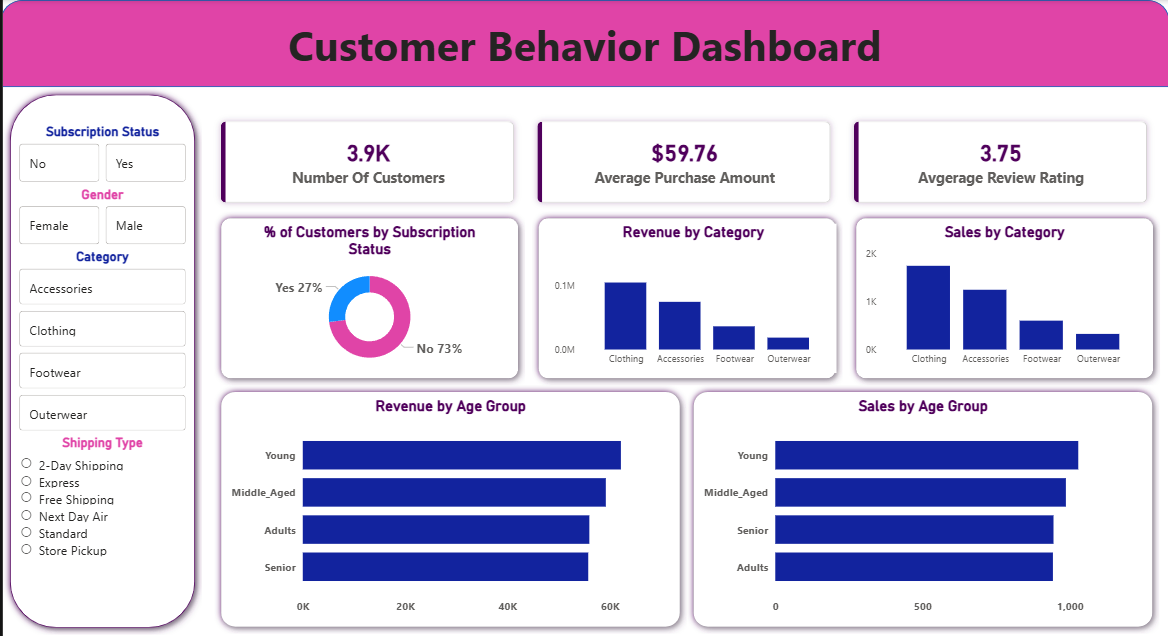

What the dashboard file says about the page in this screenshot:
{"tool":"powerbi","page":{"name":"Page 1","canvas":[1500,820],"ordinal":0},"visuals":[{"type":"cardVisual","fields":{"Data":["customer_shopping_behaviour_cleaned.Number Of Customers","customer_shopping_behaviour_cleaned.Average Purchase Amount","customer_shopping_behaviour_cleaned.Avgerage Review Rating"]},"box":[252,128,1248,160],"z":0},{"type":"shape","box":[272,496,608,320],"z":3000},{"type":"clusteredBarChart","title":"Revenue by Age Group","fields":{"Y":["Sum(customer_shopping_behaviour_cleaned.purchase_amount_usd)"],"Category":["customer_shopping_behaviour_cleaned.age_group"]},"box":[288,512,576,288],"z":3250},{"type":"shape","box":[-4,0,1504,112],"z":3500},{"type":"textbox","box":[-4,16,1504,96],"z":4000},{"type":"shape","box":[272,272,400,224],"z":5000},{"type":"donutChart","title":"% of Customers by Subscription Status","fields":{"Category":["customer_shopping_behaviour_cleaned.subscription_status"],"Y":["CountNonNull(customer_shopping_behaviour_cleaned.customer_id)"]},"box":[288,288,368,192],"z":6000},{"type":"shape","box":[680,272,400,224],"z":7000},{"type":"shape","box":[1088,272,400,224],"z":8000},{"type":"clusteredColumnChart","title":"Revenue by Category","fields":{"Category":["customer_shopping_behaviour_cleaned.category"],"Y":["Sum(customer_shopping_behaviour_cleaned.purchase_amount_usd)"]},"box":[704,288,368,192],"z":9000},{"type":"clusteredColumnChart","title":"Sales by Category","fields":{"Category":["customer_shopping_behaviour_cleaned.category"],"Y":["CountNonNull(customer_shopping_behaviour_cleaned.customer_id)"]},"box":[1104,288,368,192],"z":10000},{"type":"shape","box":[0,112,256,704],"z":11000},{"type":"advancedSlicerVisual","fields":{"Values":["customer_shopping_behaviour_cleaned.subscription_status"]},"box":[16,160,224,80],"z":12000},{"type":"advancedSlicerVisual","fields":{"Values":["customer_shopping_behaviour_cleaned.gender"]},"box":[16,240,224,80],"z":13000},{"type":"advancedSlicerVisual","fields":{"Values":["customer_shopping_behaviour_cleaned.category"]},"box":[16,320,224,240],"z":14000},{"type":"listSlicer","fields":{"Values":["customer_shopping_behaviour_cleaned.shipping_type"]},"box":[16,560,224,208],"z":15000},{"type":"shape","box":[880,496,608,320],"z":16000},{"type":"clusteredBarChart","title":"Sales by Age Group","fields":{"Y":["CountNonNull(customer_shopping_behaviour_cleaned.customer_id)"],"Category":["customer_shopping_behaviour_cleaned.age_group"]},"box":[896,512,576,288],"z":17000}]}

Visuals, with their boxes in screenshot pixels (x1, y1, x2, y2), scaled from the page's 1500x820 canvas onto the 1168x636 screenshot:
cardVisual - customer_shopping_behaviour_cleaned.Number Of Customers x customer_shopping_behaviour_cleaned.Average Purchase Amount: bbox=(196, 99, 1167, 223)
shape: bbox=(212, 385, 685, 633)
"Revenue by Age Group" clusteredBarChart: bbox=(224, 397, 673, 620)
shape: bbox=(0, 0, 1167, 87)
textbox: bbox=(0, 12, 1167, 87)
shape: bbox=(212, 211, 523, 385)
"% of Customers by Subscription Status" donutChart: bbox=(224, 223, 511, 372)
shape: bbox=(529, 211, 841, 385)
shape: bbox=(847, 211, 1159, 385)
"Revenue by Category" clusteredColumnChart: bbox=(548, 223, 835, 372)
"Sales by Category" clusteredColumnChart: bbox=(860, 223, 1146, 372)
shape: bbox=(0, 87, 199, 633)
advancedSlicerVisual - customer_shopping_behaviour_cleaned.subscription_status: bbox=(12, 124, 187, 186)
advancedSlicerVisual - customer_shopping_behaviour_cleaned.gender: bbox=(12, 186, 187, 248)
advancedSlicerVisual - customer_shopping_behaviour_cleaned.category: bbox=(12, 248, 187, 434)
listSlicer - customer_shopping_behaviour_cleaned.shipping_type: bbox=(12, 434, 187, 596)
shape: bbox=(685, 385, 1159, 633)
"Sales by Age Group" clusteredBarChart: bbox=(698, 397, 1146, 620)
